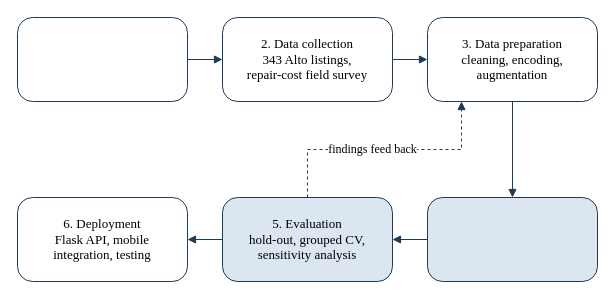
Image size: 615x299. Some labels were removed from this diagram. Here are the shapes that lost their labels. From the top down, the box of each, then its label:
(16, 16, 188, 102): 1. Problem study market review, literature survey
(426, 196, 598, 282): 4. Modelling baselines, tuning, stacked ensemble
